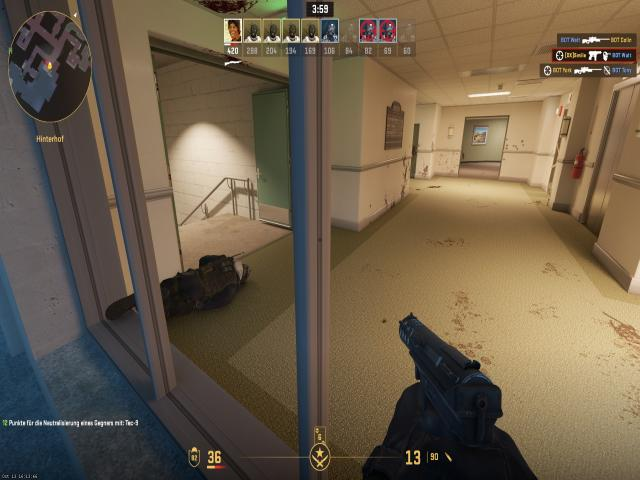Dead: (98, 244, 250, 319)
